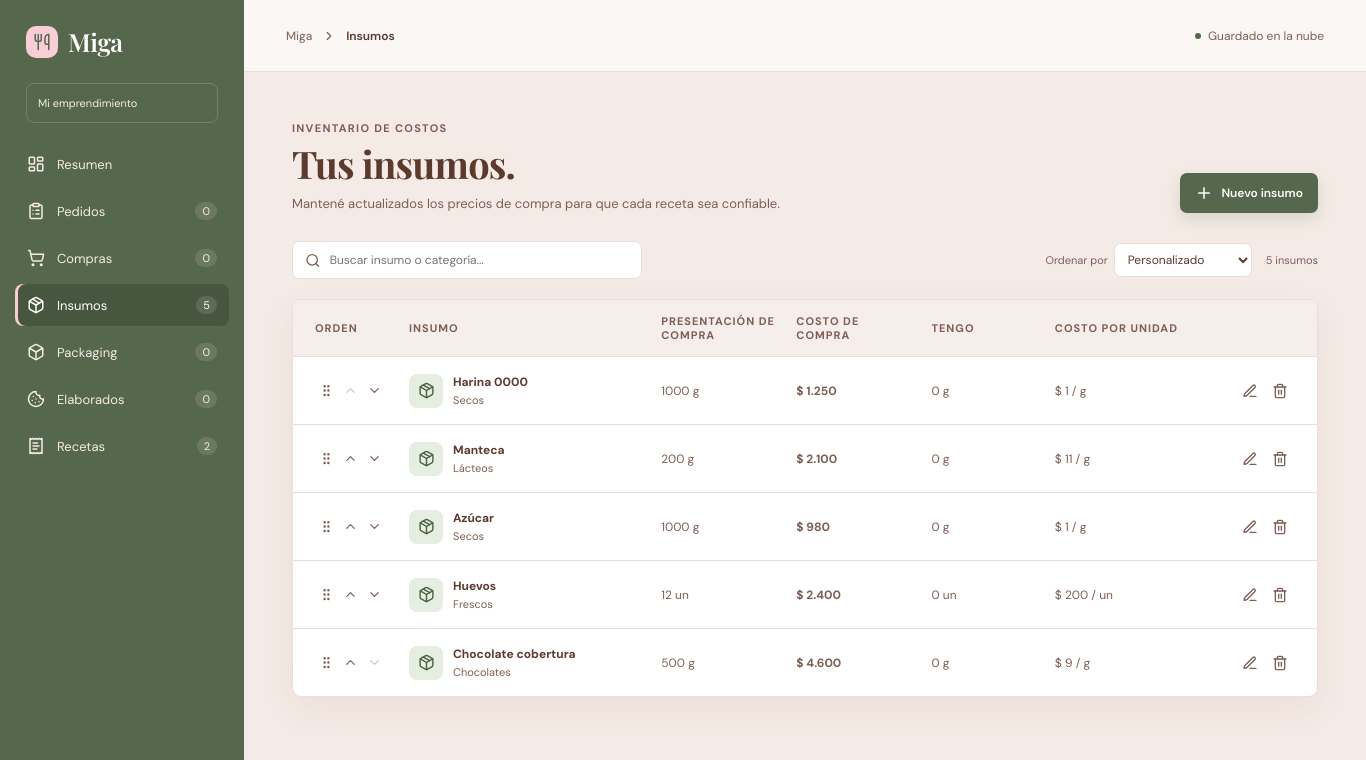
Test: Form modals › closes with the close button
Click the button "Nuevo insumo". click: [1249, 193]
box: [1180,173,1318,213]
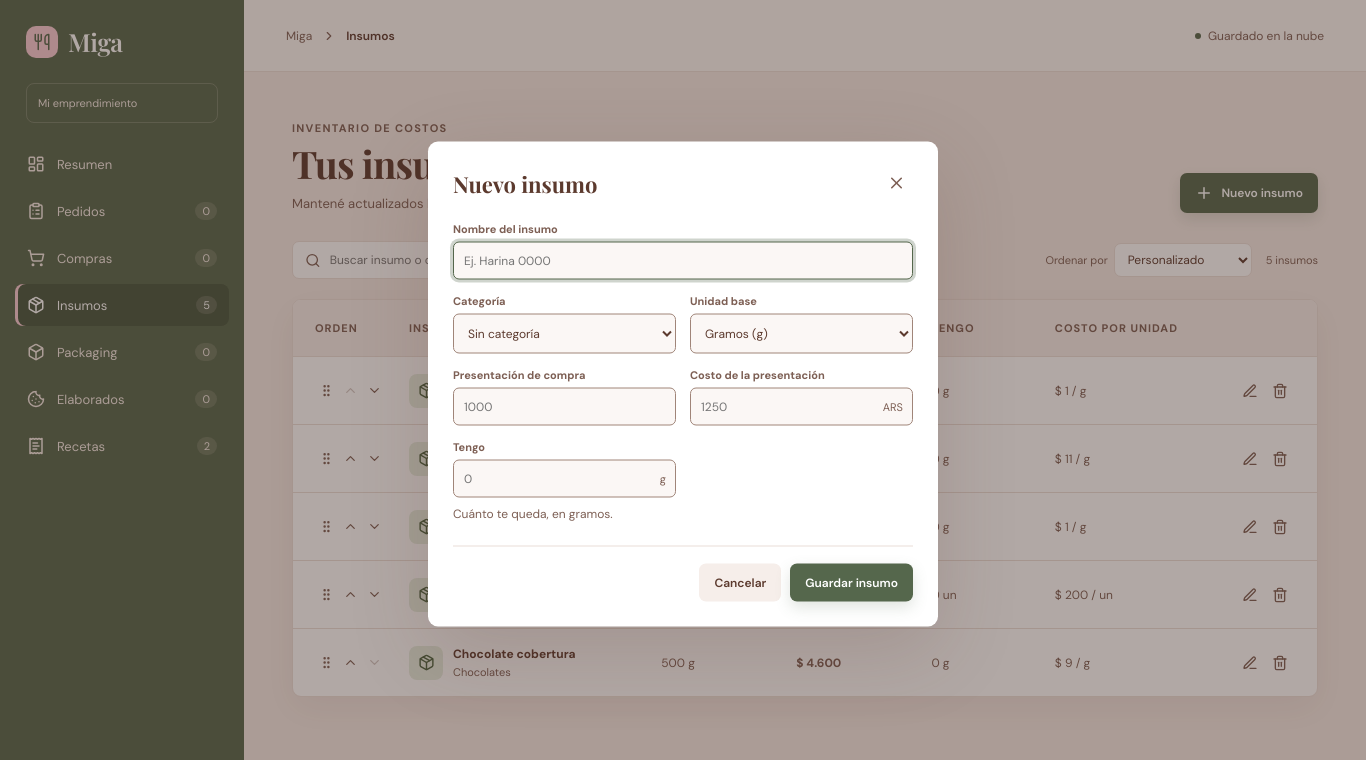
Now the dialog is shown, box [428,142,938,626]
Click the button named "Cerrar". click: [896, 183]
box: [880,166,913,200]
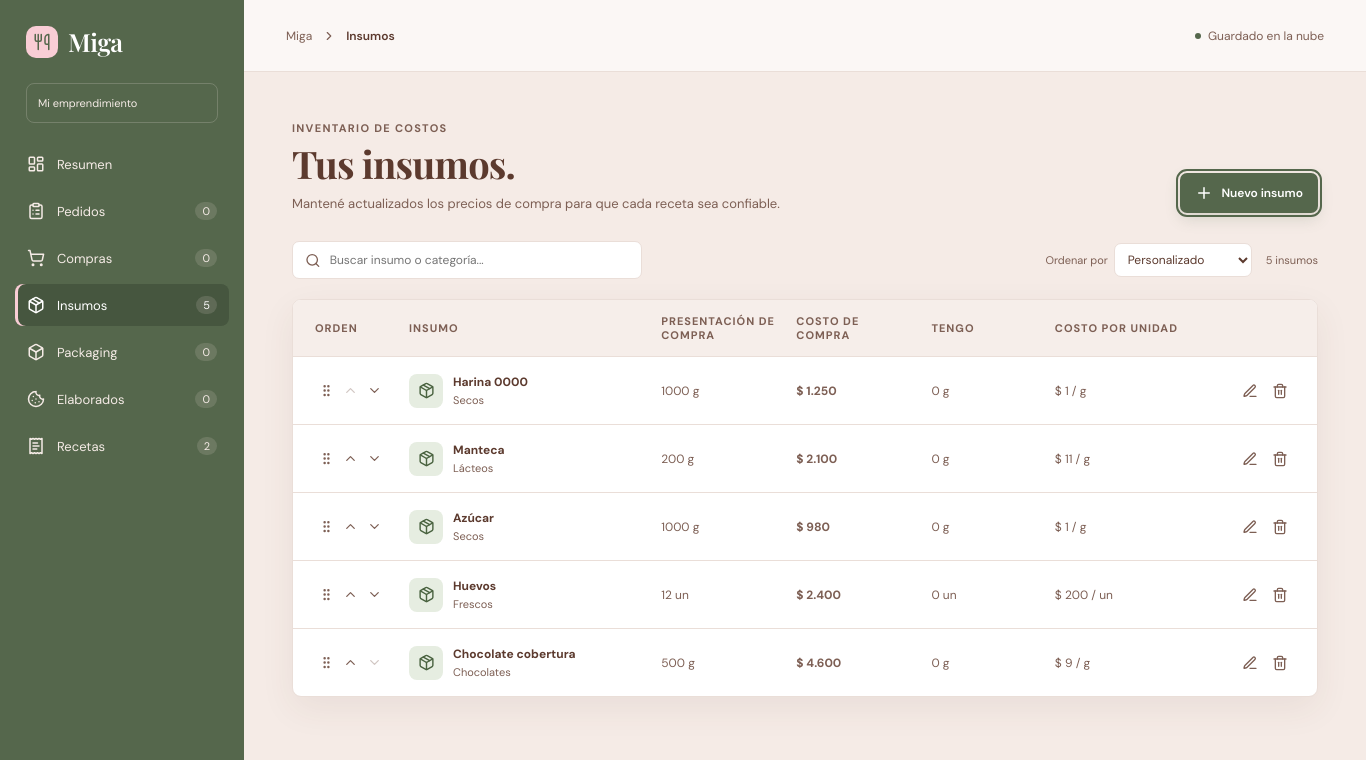
Now the dialog is gone
